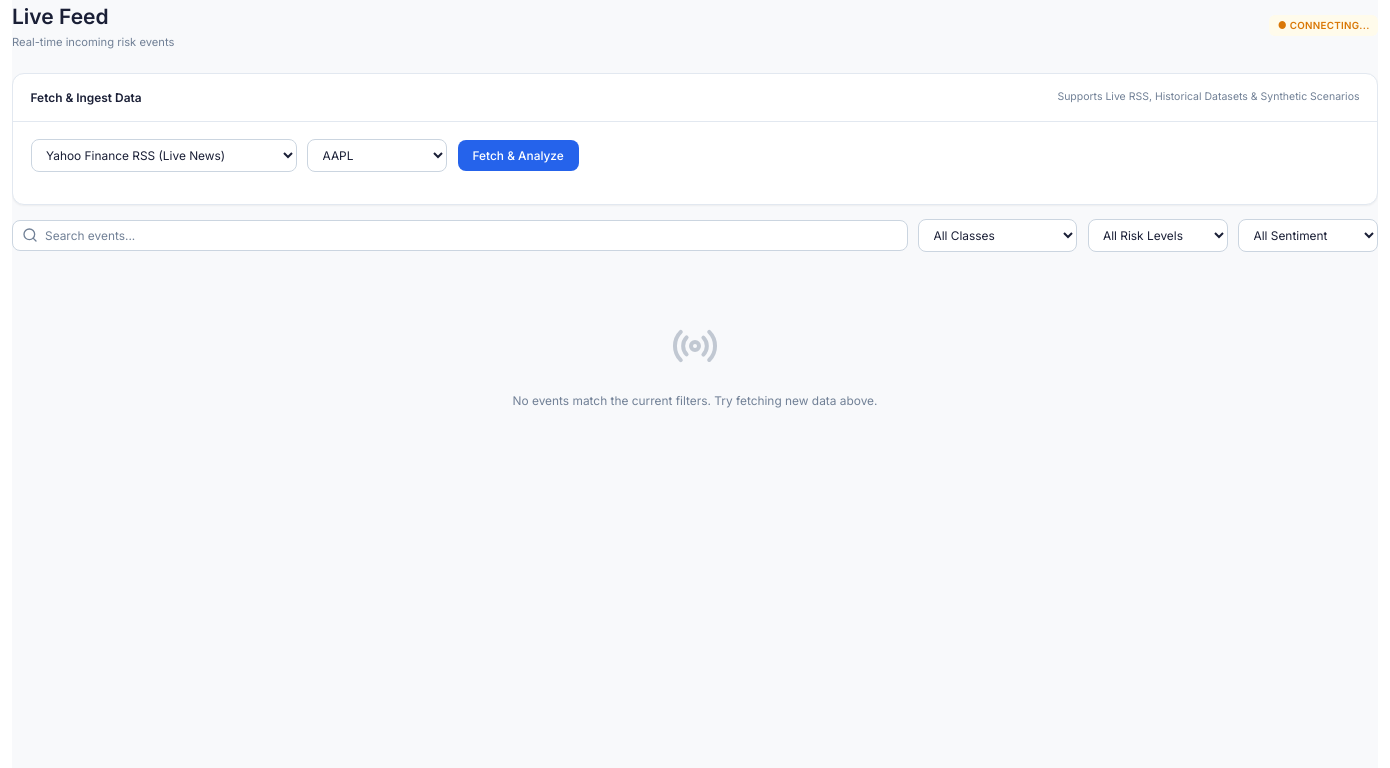
Scenario: LiveFeedPage Synchronization › displays clear status message when all articles are duplicates for Yahoo RSS
The image size is (1390, 768).
expect the button "Fetch & Analyze" is shown: met, box [458,140,579,171]
Select "AMZN" in the 2nd dropdown at (377, 156), box [307,139,447,172]
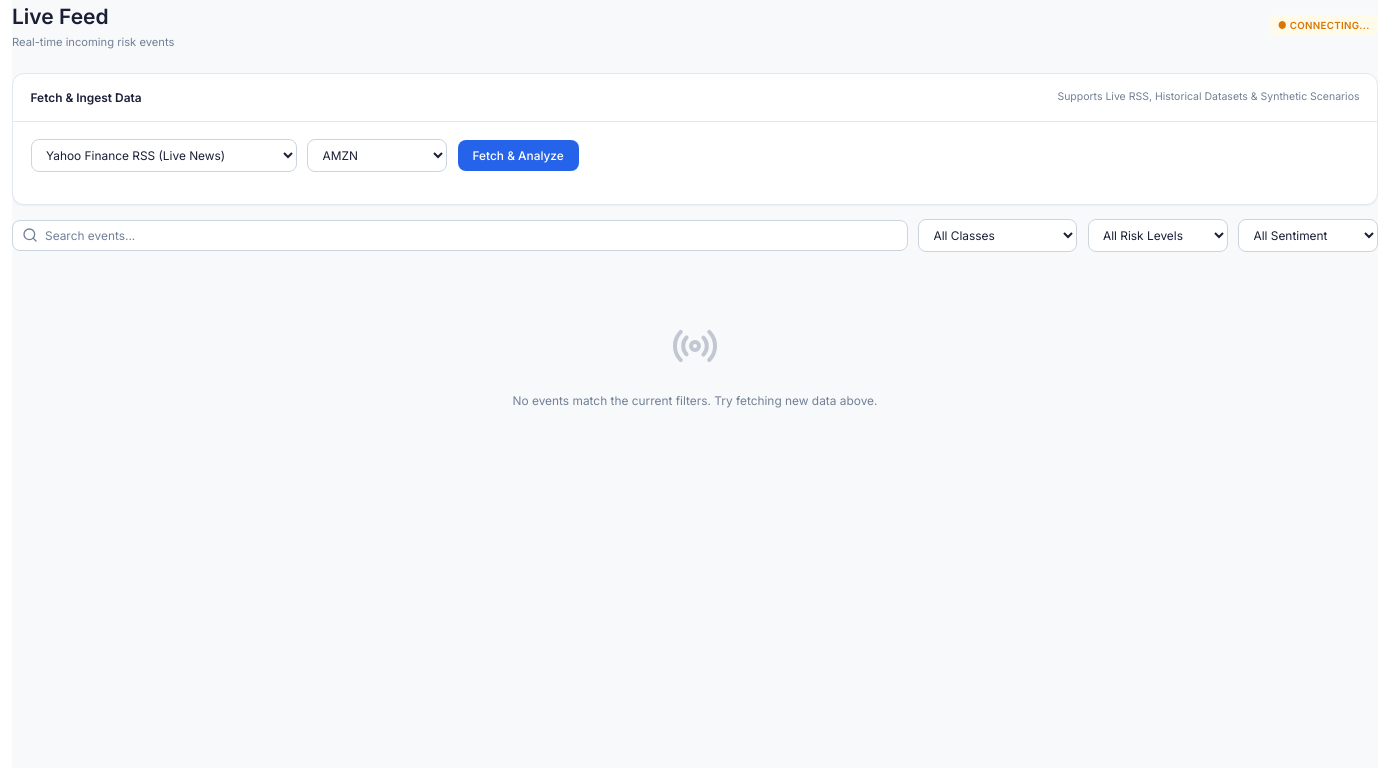
Click the button "Fetch & Analyze" at (518, 156), box [458,140,579,171]
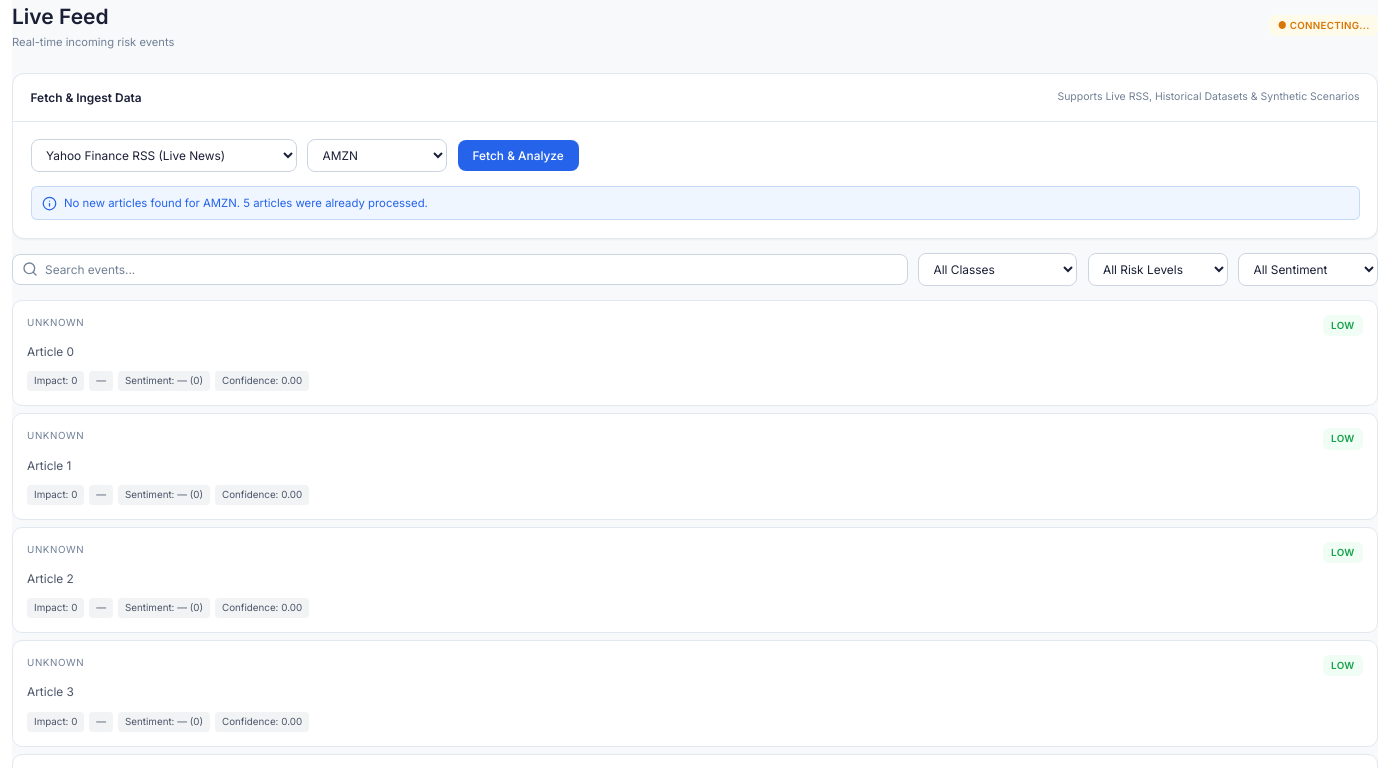
expect the text "No new articles found for AMZN. 5 articles were already processed." is shown: met, box [64,194,428,212]
